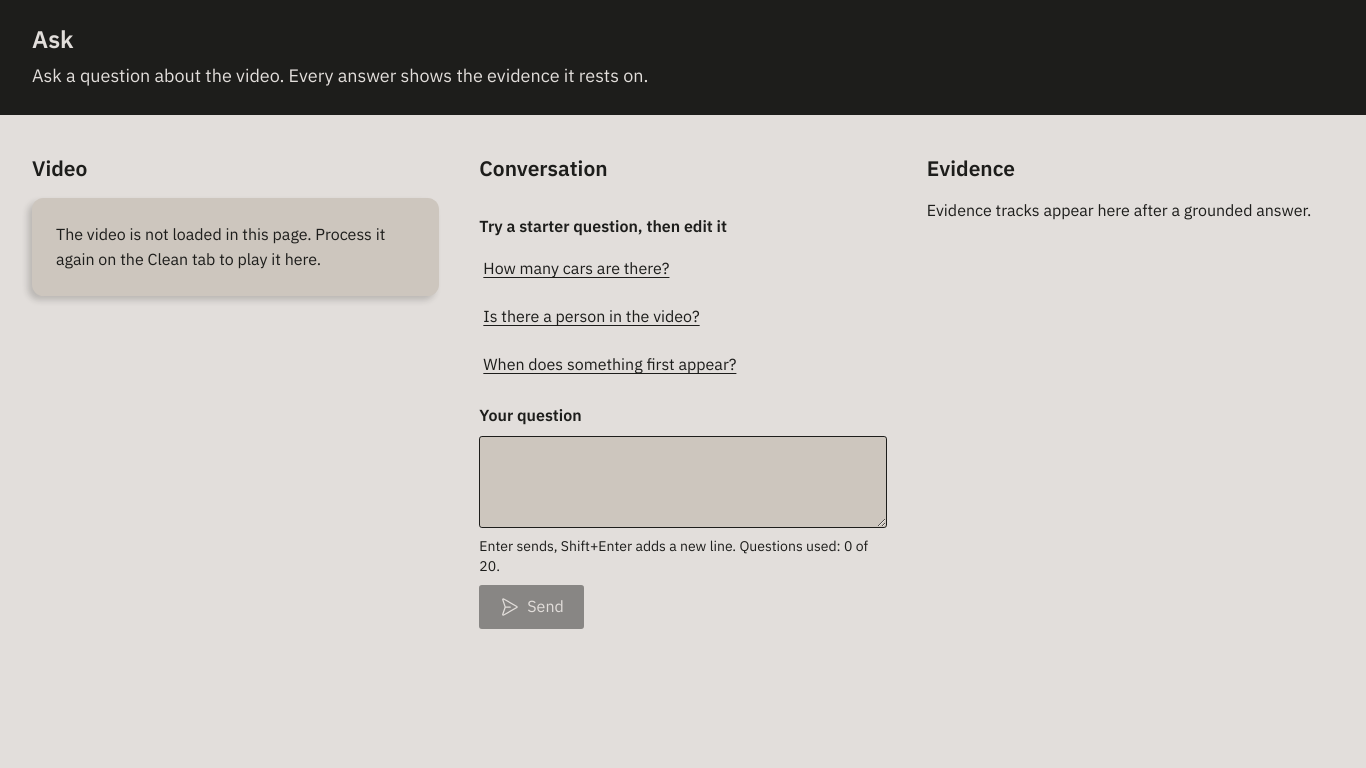
Scenario: AskView chat flow › styles a clarification as a question to the user
This screenshot has width=1366, height=768.
Type "cars" into the text box labelled "Your question" at (683, 482), box [479,436,887,528]
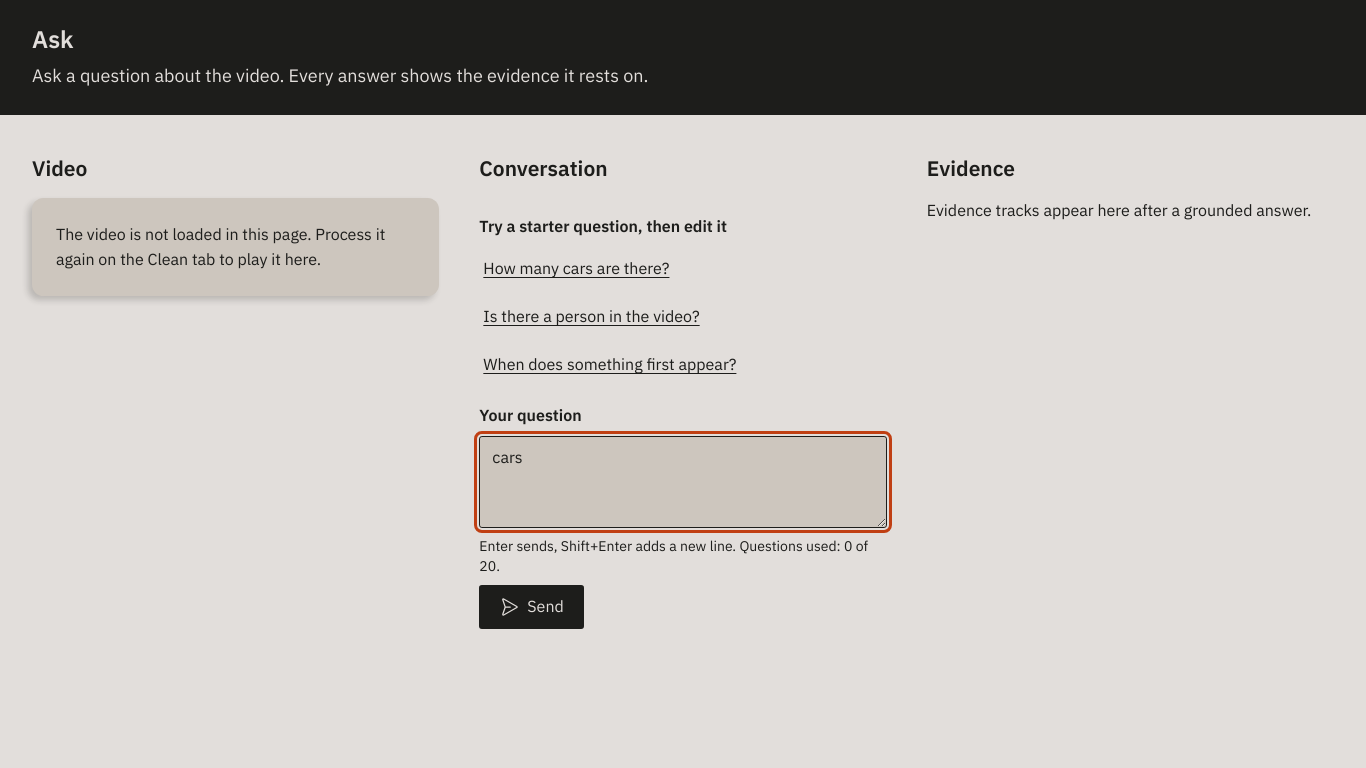
Click the button "Send" at (532, 607), box [479,585,584,629]
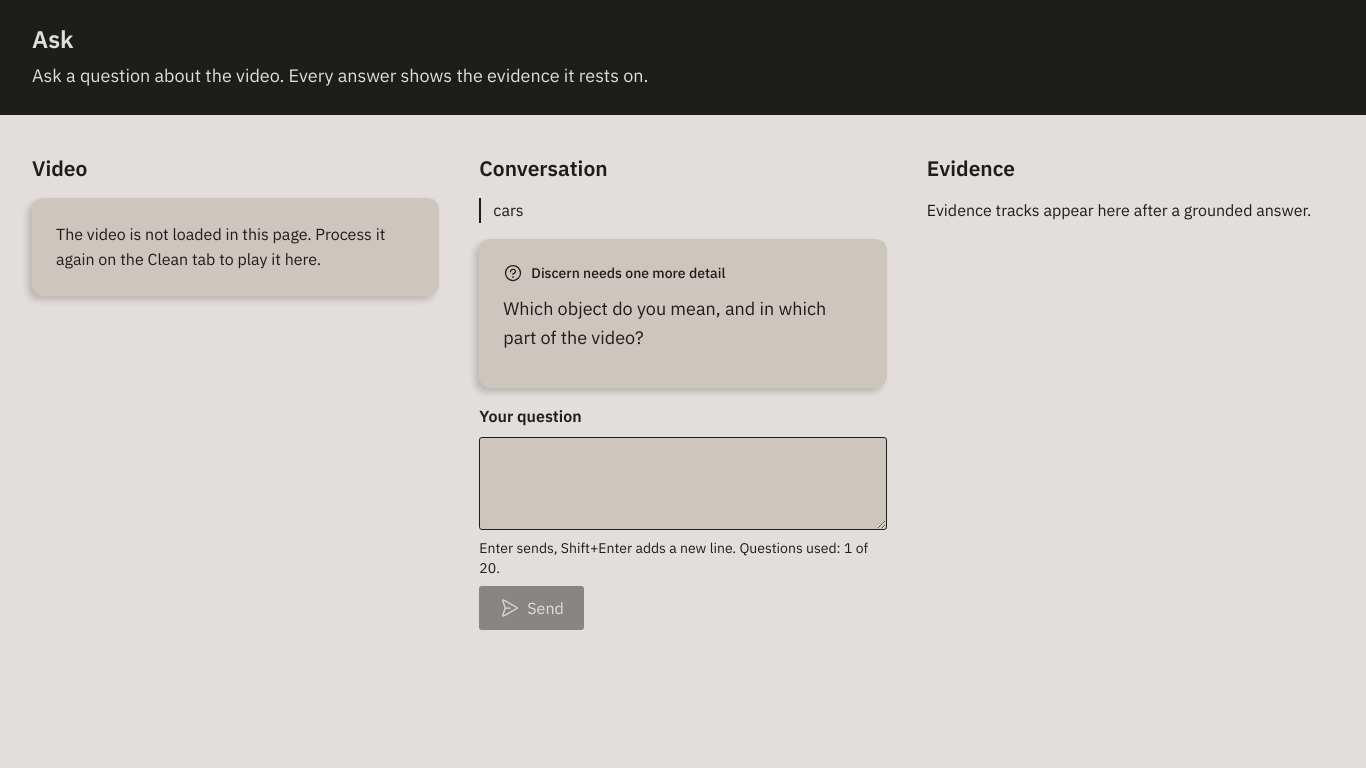
Result: the text "Discern needs one more detail" is shown at [503,263,726,283]
